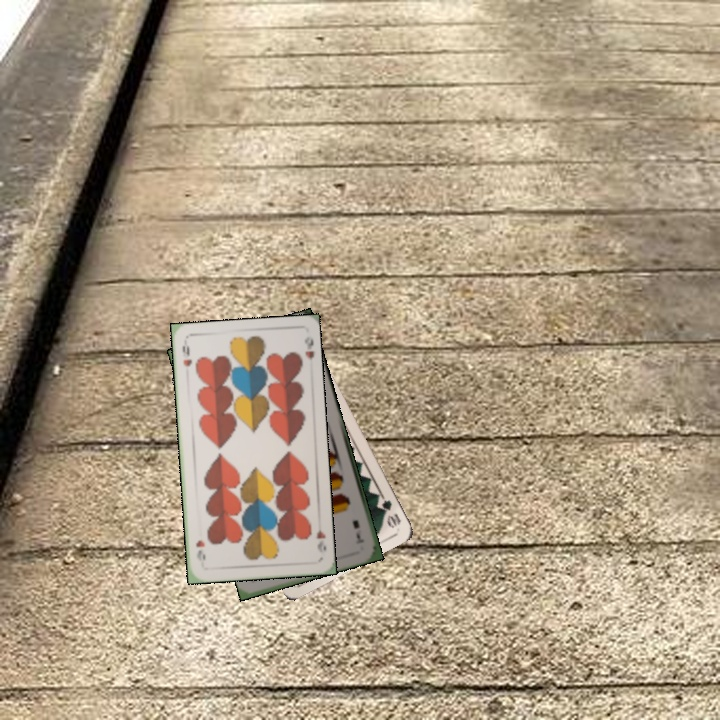E7: (348, 516, 366, 546)
G10: (377, 491, 404, 531)
H9: (312, 518, 329, 555), (178, 338, 194, 369)
